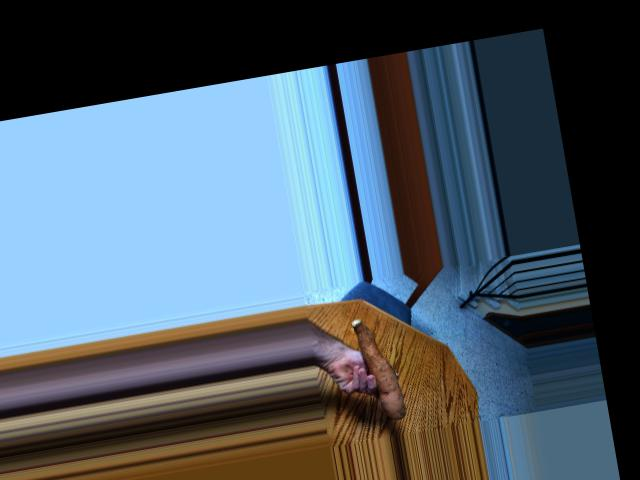sweet_potato: (345, 314, 412, 422)
